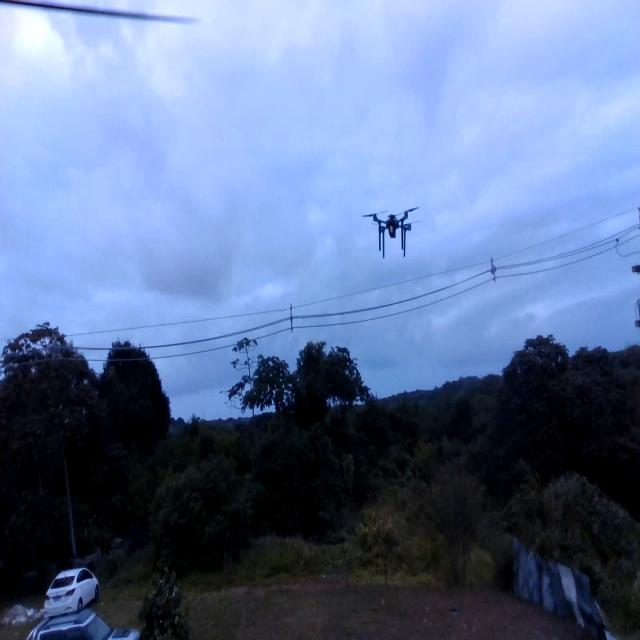-uav-: (348, 185, 430, 273)
